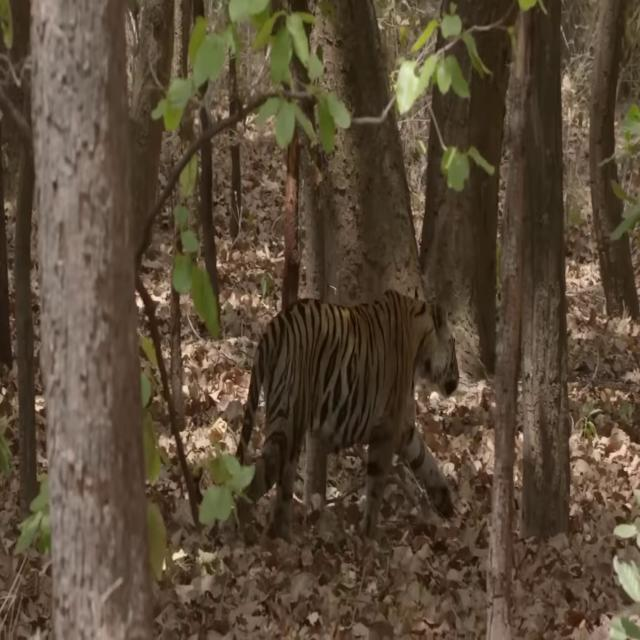tiger: (234, 288, 459, 524)
